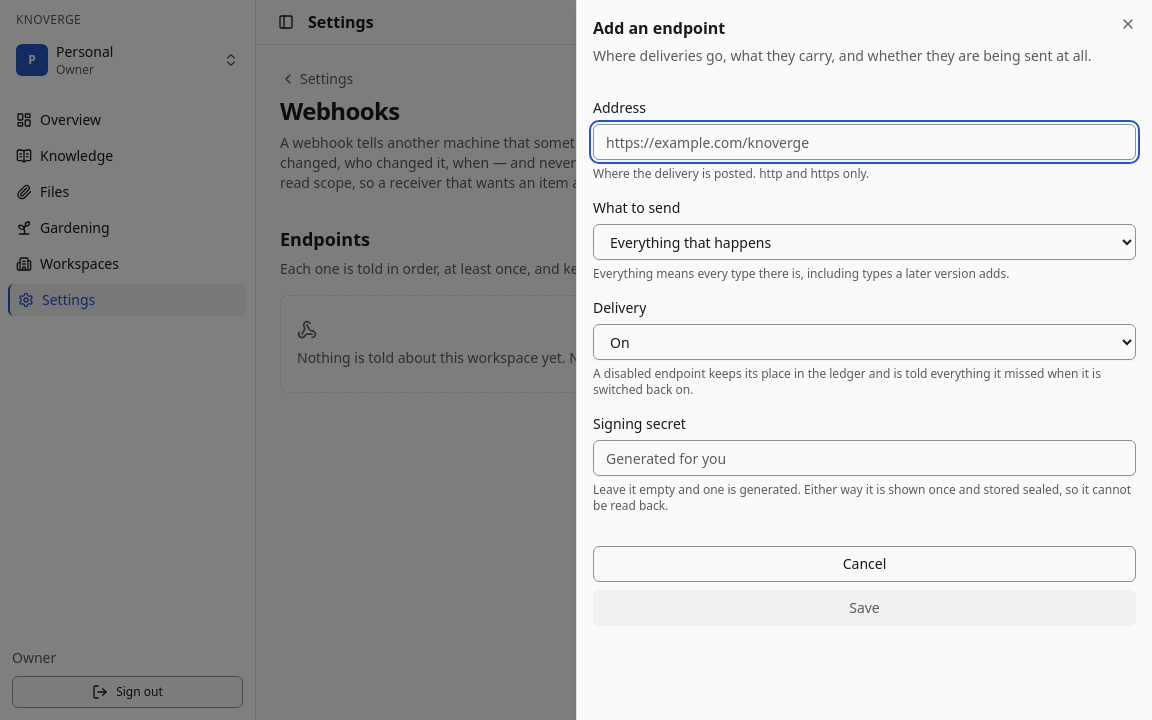
Scenario: a form that cannot be saved yet › says which answer is missing rather than only greying the button
Type "example.com/hook" into the field labelled "Address" at (864, 142), box top-left (593, 124), bottom-right (1136, 160)
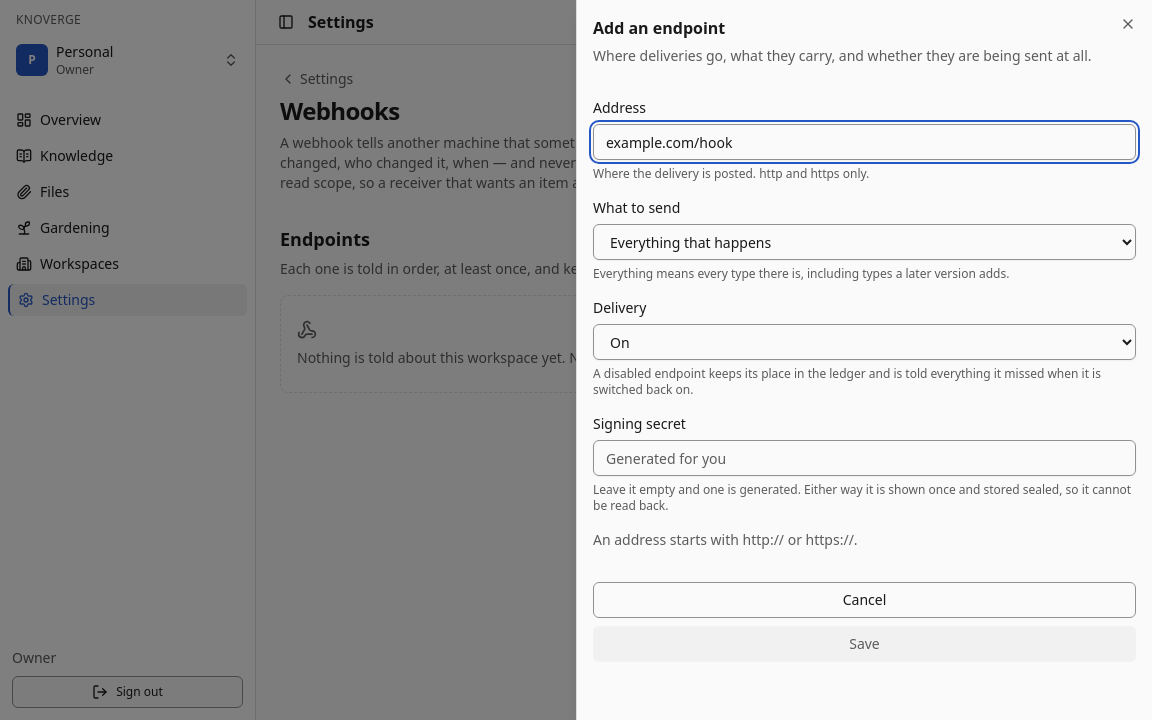
Expected: the button "Save" is disabled, top-left (593, 626), bottom-right (1136, 662)
Now the text "An address starts with http:// or https://." is shown, box top-left (593, 530), bottom-right (858, 549)
Replace the text in the field labelled "Address" with "https://example.com/hook" at (864, 142), box top-left (593, 124), bottom-right (1136, 160)
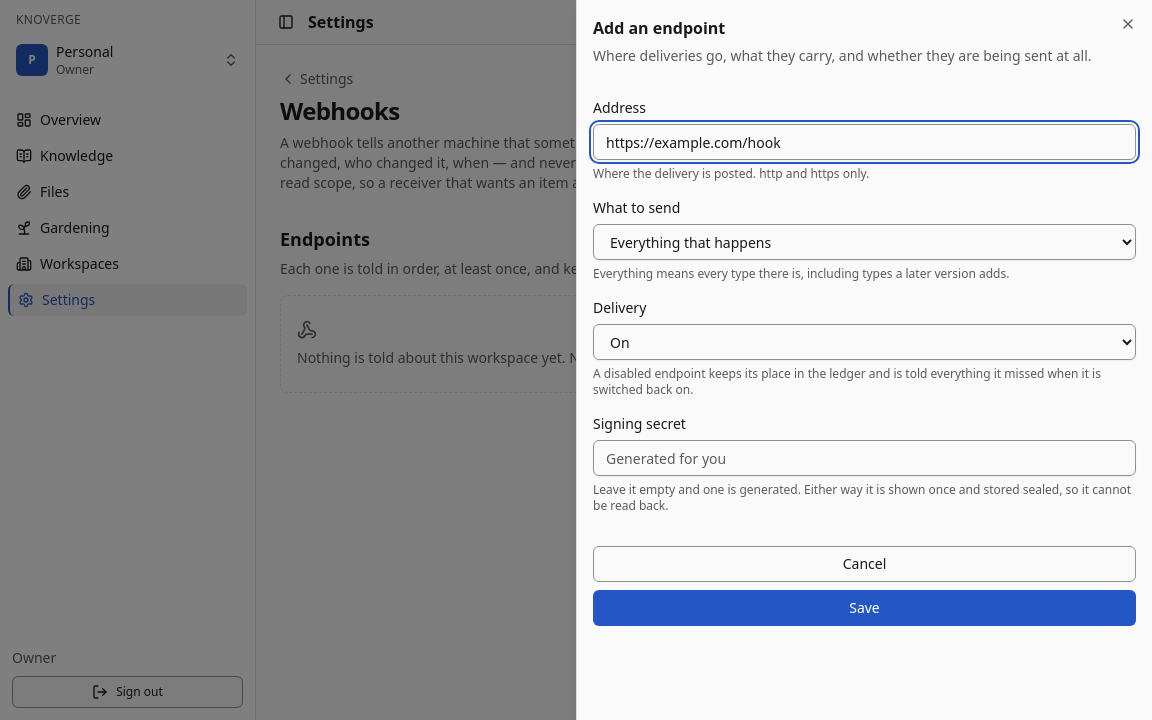
Select "Only the types I choose" in the dropdown labelled "What to send" at (864, 242), box top-left (593, 224), bottom-right (1136, 260)
(page scrolled)
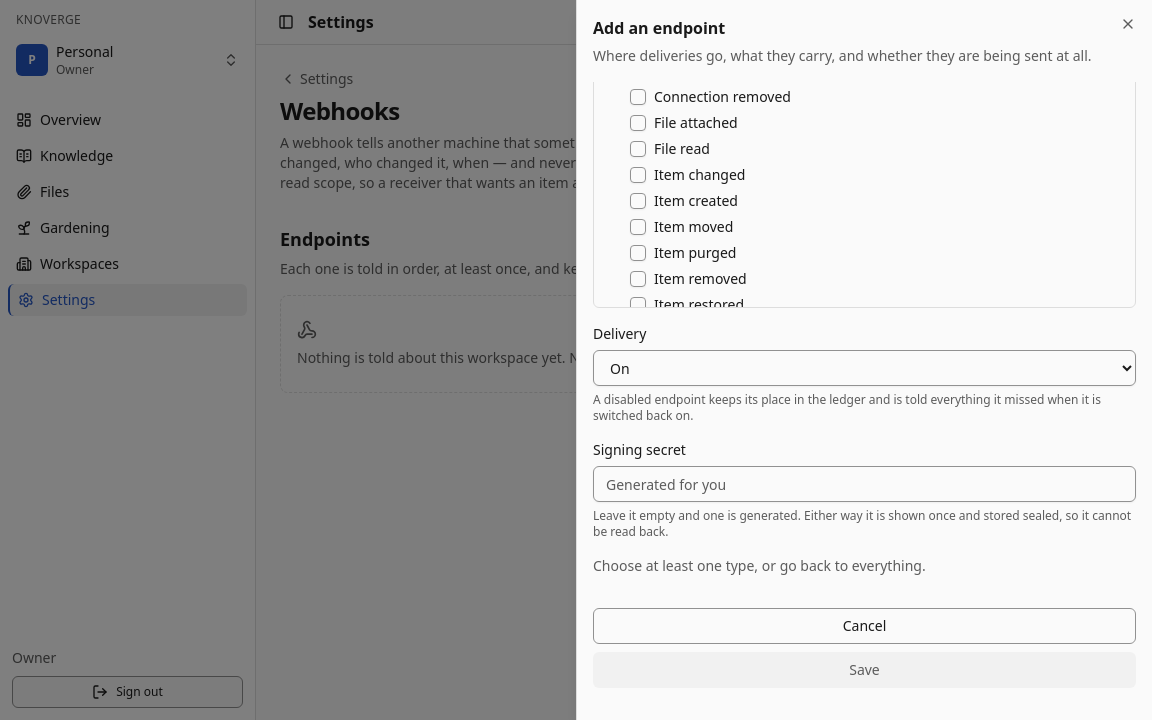
Now the text "Choose at least one type, or go back to everything." is shown, box top-left (593, 556), bottom-right (926, 575)
Now the button "Save" is disabled, box top-left (593, 652), bottom-right (1136, 688)
